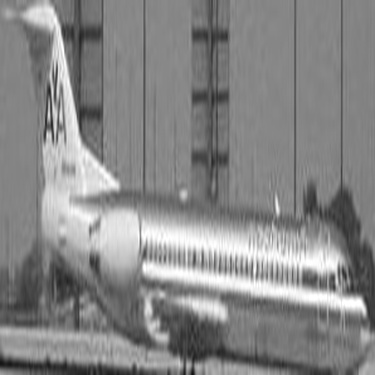airplane: (1, 2, 368, 369)
